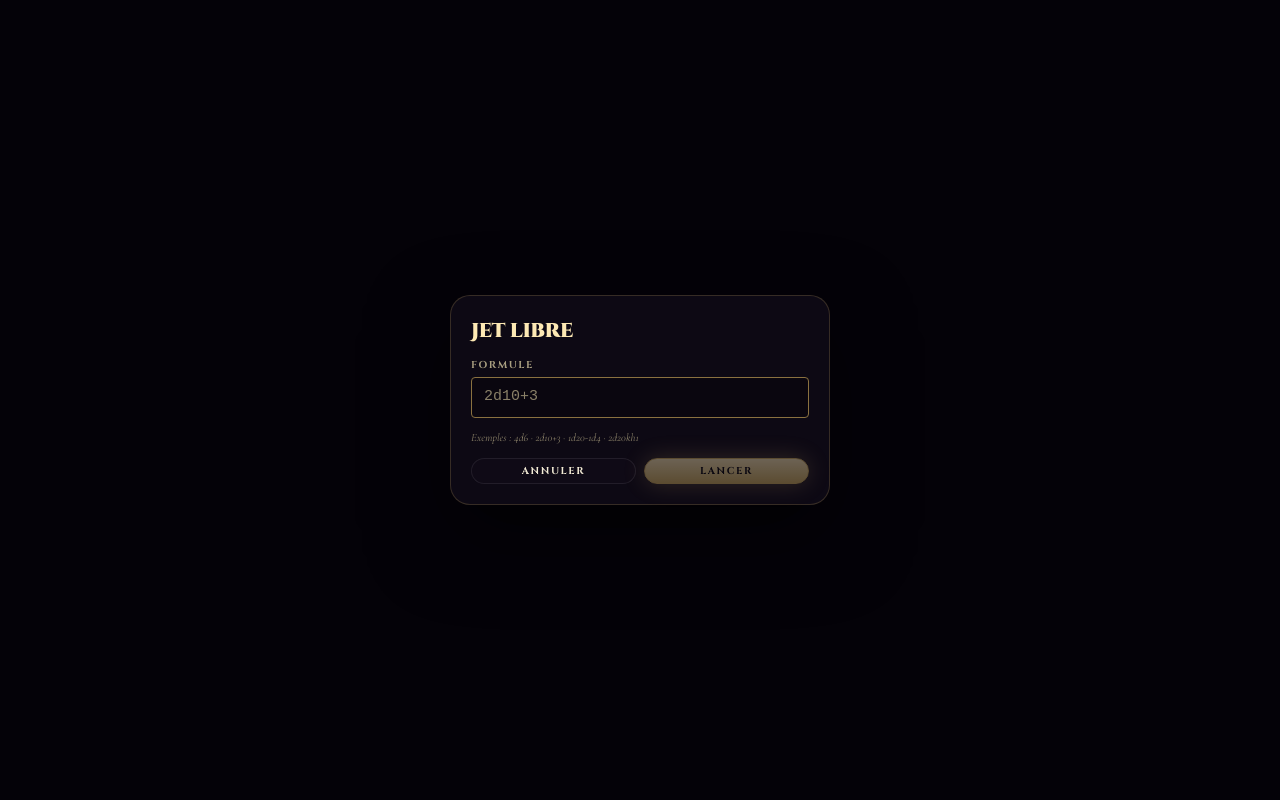
Test: FreeRollModal › rattrape une formule corrigée après une saisie fautive
Type "4d" into the field with test id "free-roll-input" at (640, 397), box x1=471 y1=377 x2=809 y2=418
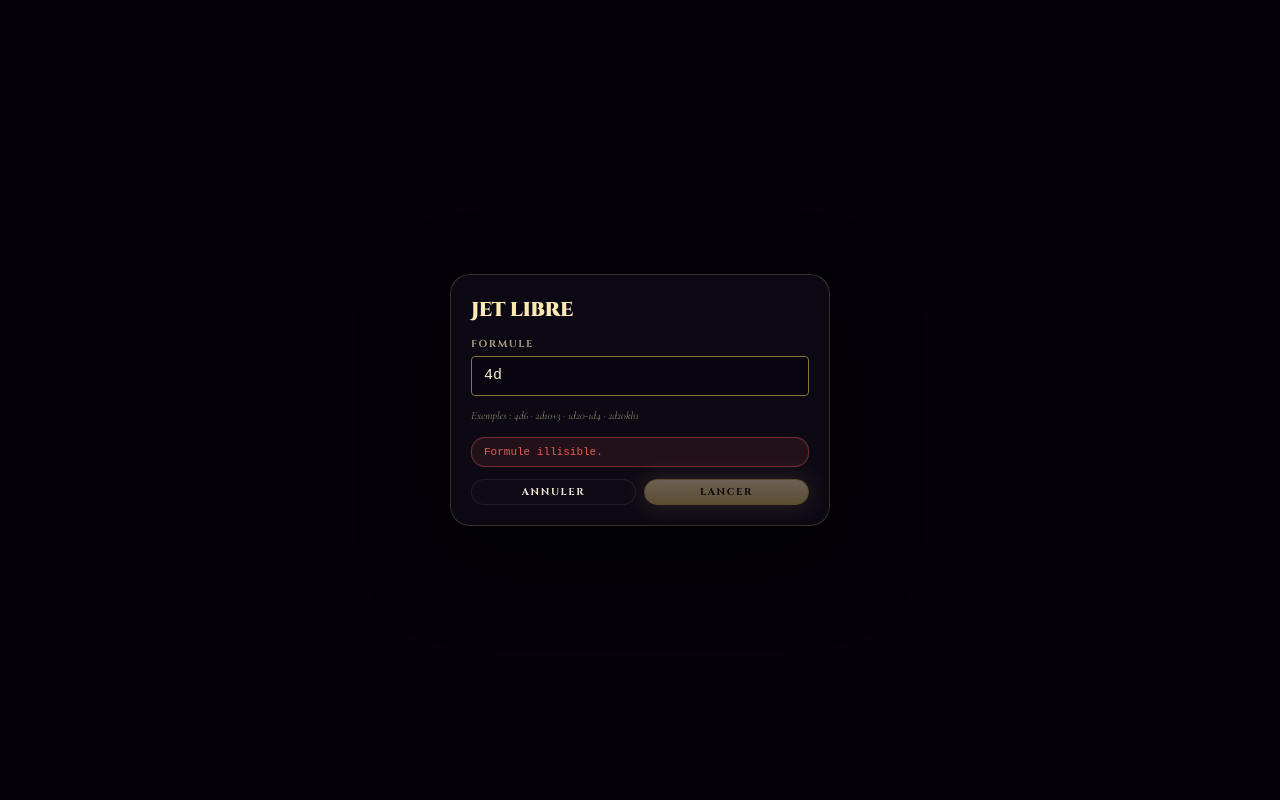
Result: the text "Formule illisible." is shown at x1=471 y1=437 x2=809 y2=467
Replace the text in the field with test id "free-roll-input" with "4d6" at (640, 376), box x1=471 y1=356 x2=809 y2=396
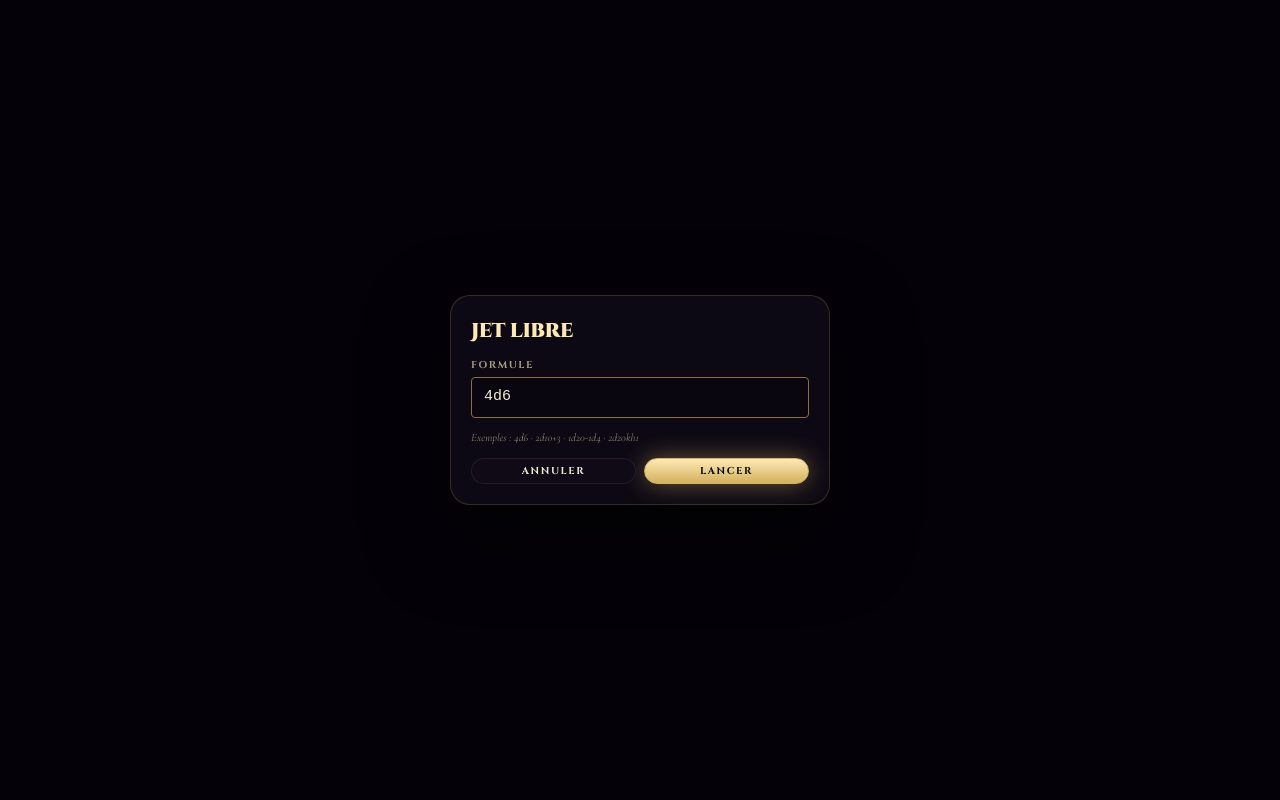
Result: the text with test id "free-roll-error" is gone
Result: the button with test id "free-roll-submit" is enabled at x1=644 y1=458 x2=809 y2=484
